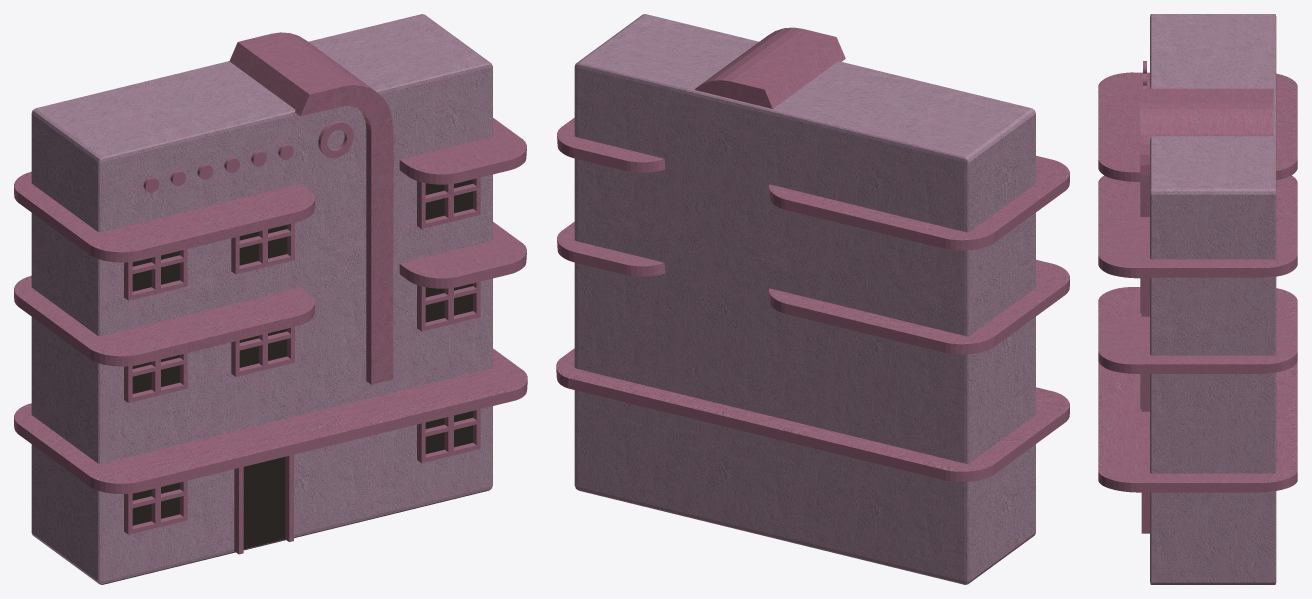
File: CrescentBuilding.glb
The picture shows the model from 3 angles, left to right: view 1: azimuth 30°, elevation 25°; view 2: azimuth 150°, elevation 25°; view 3: azimuth 270°, elevation 25°; orthographic projection. The views are drawn at different scales.
Visible parts, largest first — view 1: bui.001, awn, cre, awn.002, awn.001, awn.004, awn.003, dow.010, win.001, win.009, win.011, win.008 (+15 smaller); view 2: bui.001, awn, awn.002, awn.001, cre, awn.003, awn.004; view 3: bui.001, awn, cre, awn.001, awn.004, awn.003, awn.002, win.011, win.001, win.008.
Part boxes in pixels (x1,y1,x2,y2): bui.001: [31, 14, 492, 584]; awn: [14, 348, 527, 493]; cre: [229, 32, 393, 384]; awn.002: [14, 275, 314, 366]; awn.001: [14, 171, 314, 262]; awn.004: [399, 118, 526, 184]; awn.003: [399, 222, 526, 288]; dow.010: [243, 457, 285, 549]; win.001: [417, 177, 480, 229]; win.009: [124, 480, 187, 534]; win.011: [417, 409, 480, 463]; win.008: [417, 281, 480, 331]; bui.001: [574, 14, 1035, 584]; awn: [556, 348, 1069, 481]; awn.002: [769, 259, 1069, 354]; awn.001: [769, 155, 1069, 250]; cre: [694, 27, 845, 108]; awn.003: [557, 221, 665, 276]; awn.004: [557, 117, 665, 172]; bui.001: [1150, 14, 1276, 584]; awn: [1098, 287, 1297, 492]; cre: [1140, 88, 1273, 408]; awn.001: [1098, 72, 1297, 181]; awn.004: [1098, 217, 1297, 277]; awn.003: [1098, 313, 1297, 373]; awn.002: [1098, 175, 1297, 278]; win.011: [1141, 492, 1149, 533]; win.001: [1141, 277, 1149, 316]; win.008: [1141, 374, 1149, 411].
Bounding box in the file's own units: 3.08 × 3.02 × 1.32.
3 materials, 2 textured.
